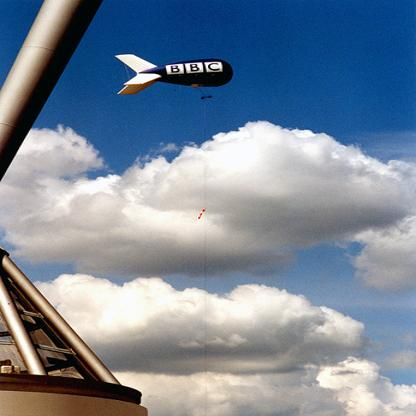Airship: (110, 51, 239, 105)
